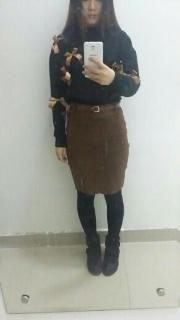long sleeve top: (49, 25, 141, 147)
skirt: (66, 102, 130, 195)
trousers: (68, 108, 124, 238)
